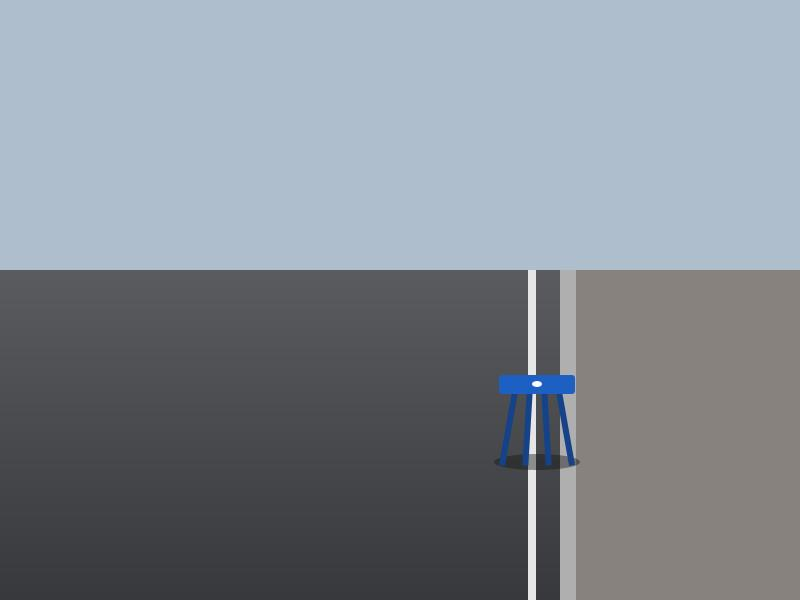ROAD_OBSTACLE: (499, 375, 575, 462)
